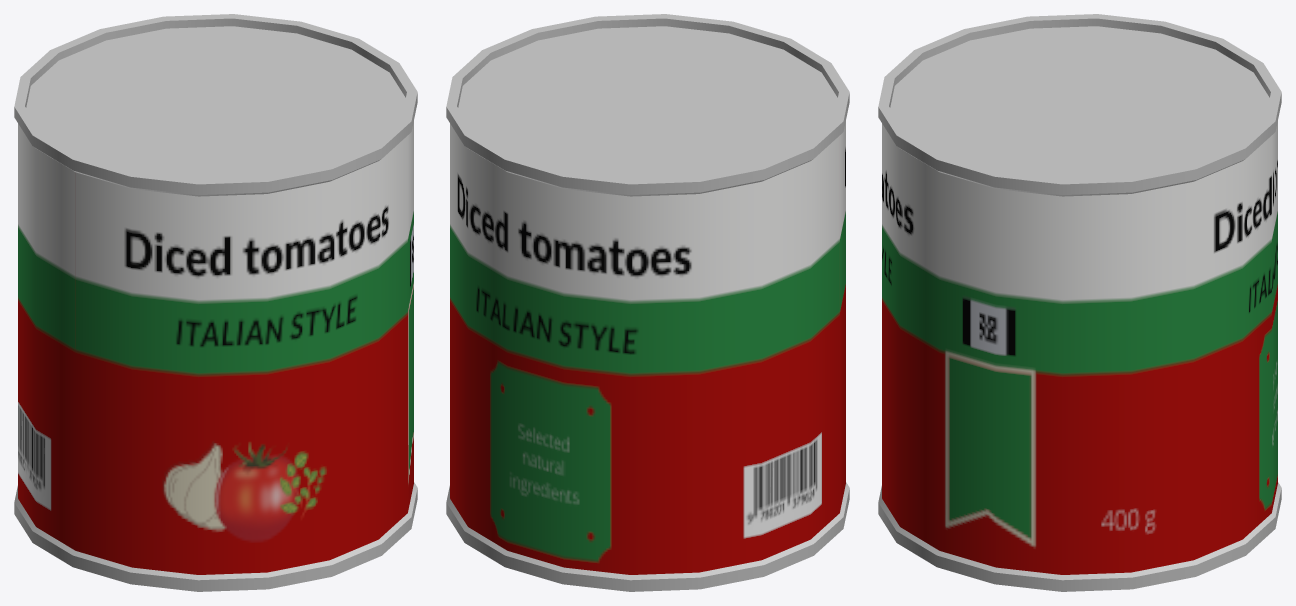
File: Tin 2.fbx
3 views of the same model, side by side, from view 1: azimuth 30°, elevation 25°; view 2: azimuth 150°, elevation 25°; view 3: azimuth 270°, elevation 25° (orthographic).
Visible parts, largest first — view 1: tin 2; view 2: tin 2; view 3: tin 2.
Part boxes in pixels (bbox=[...]): tin 2: bbox=[14, 14, 417, 591]; tin 2: bbox=[446, 14, 849, 591]; tin 2: bbox=[878, 14, 1281, 591].
Size of the model in its own units: 9.31 by 10.37 by 9.31.
